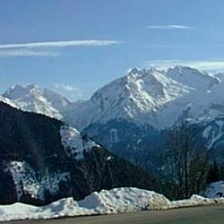neutral: (3, 38, 224, 206)
